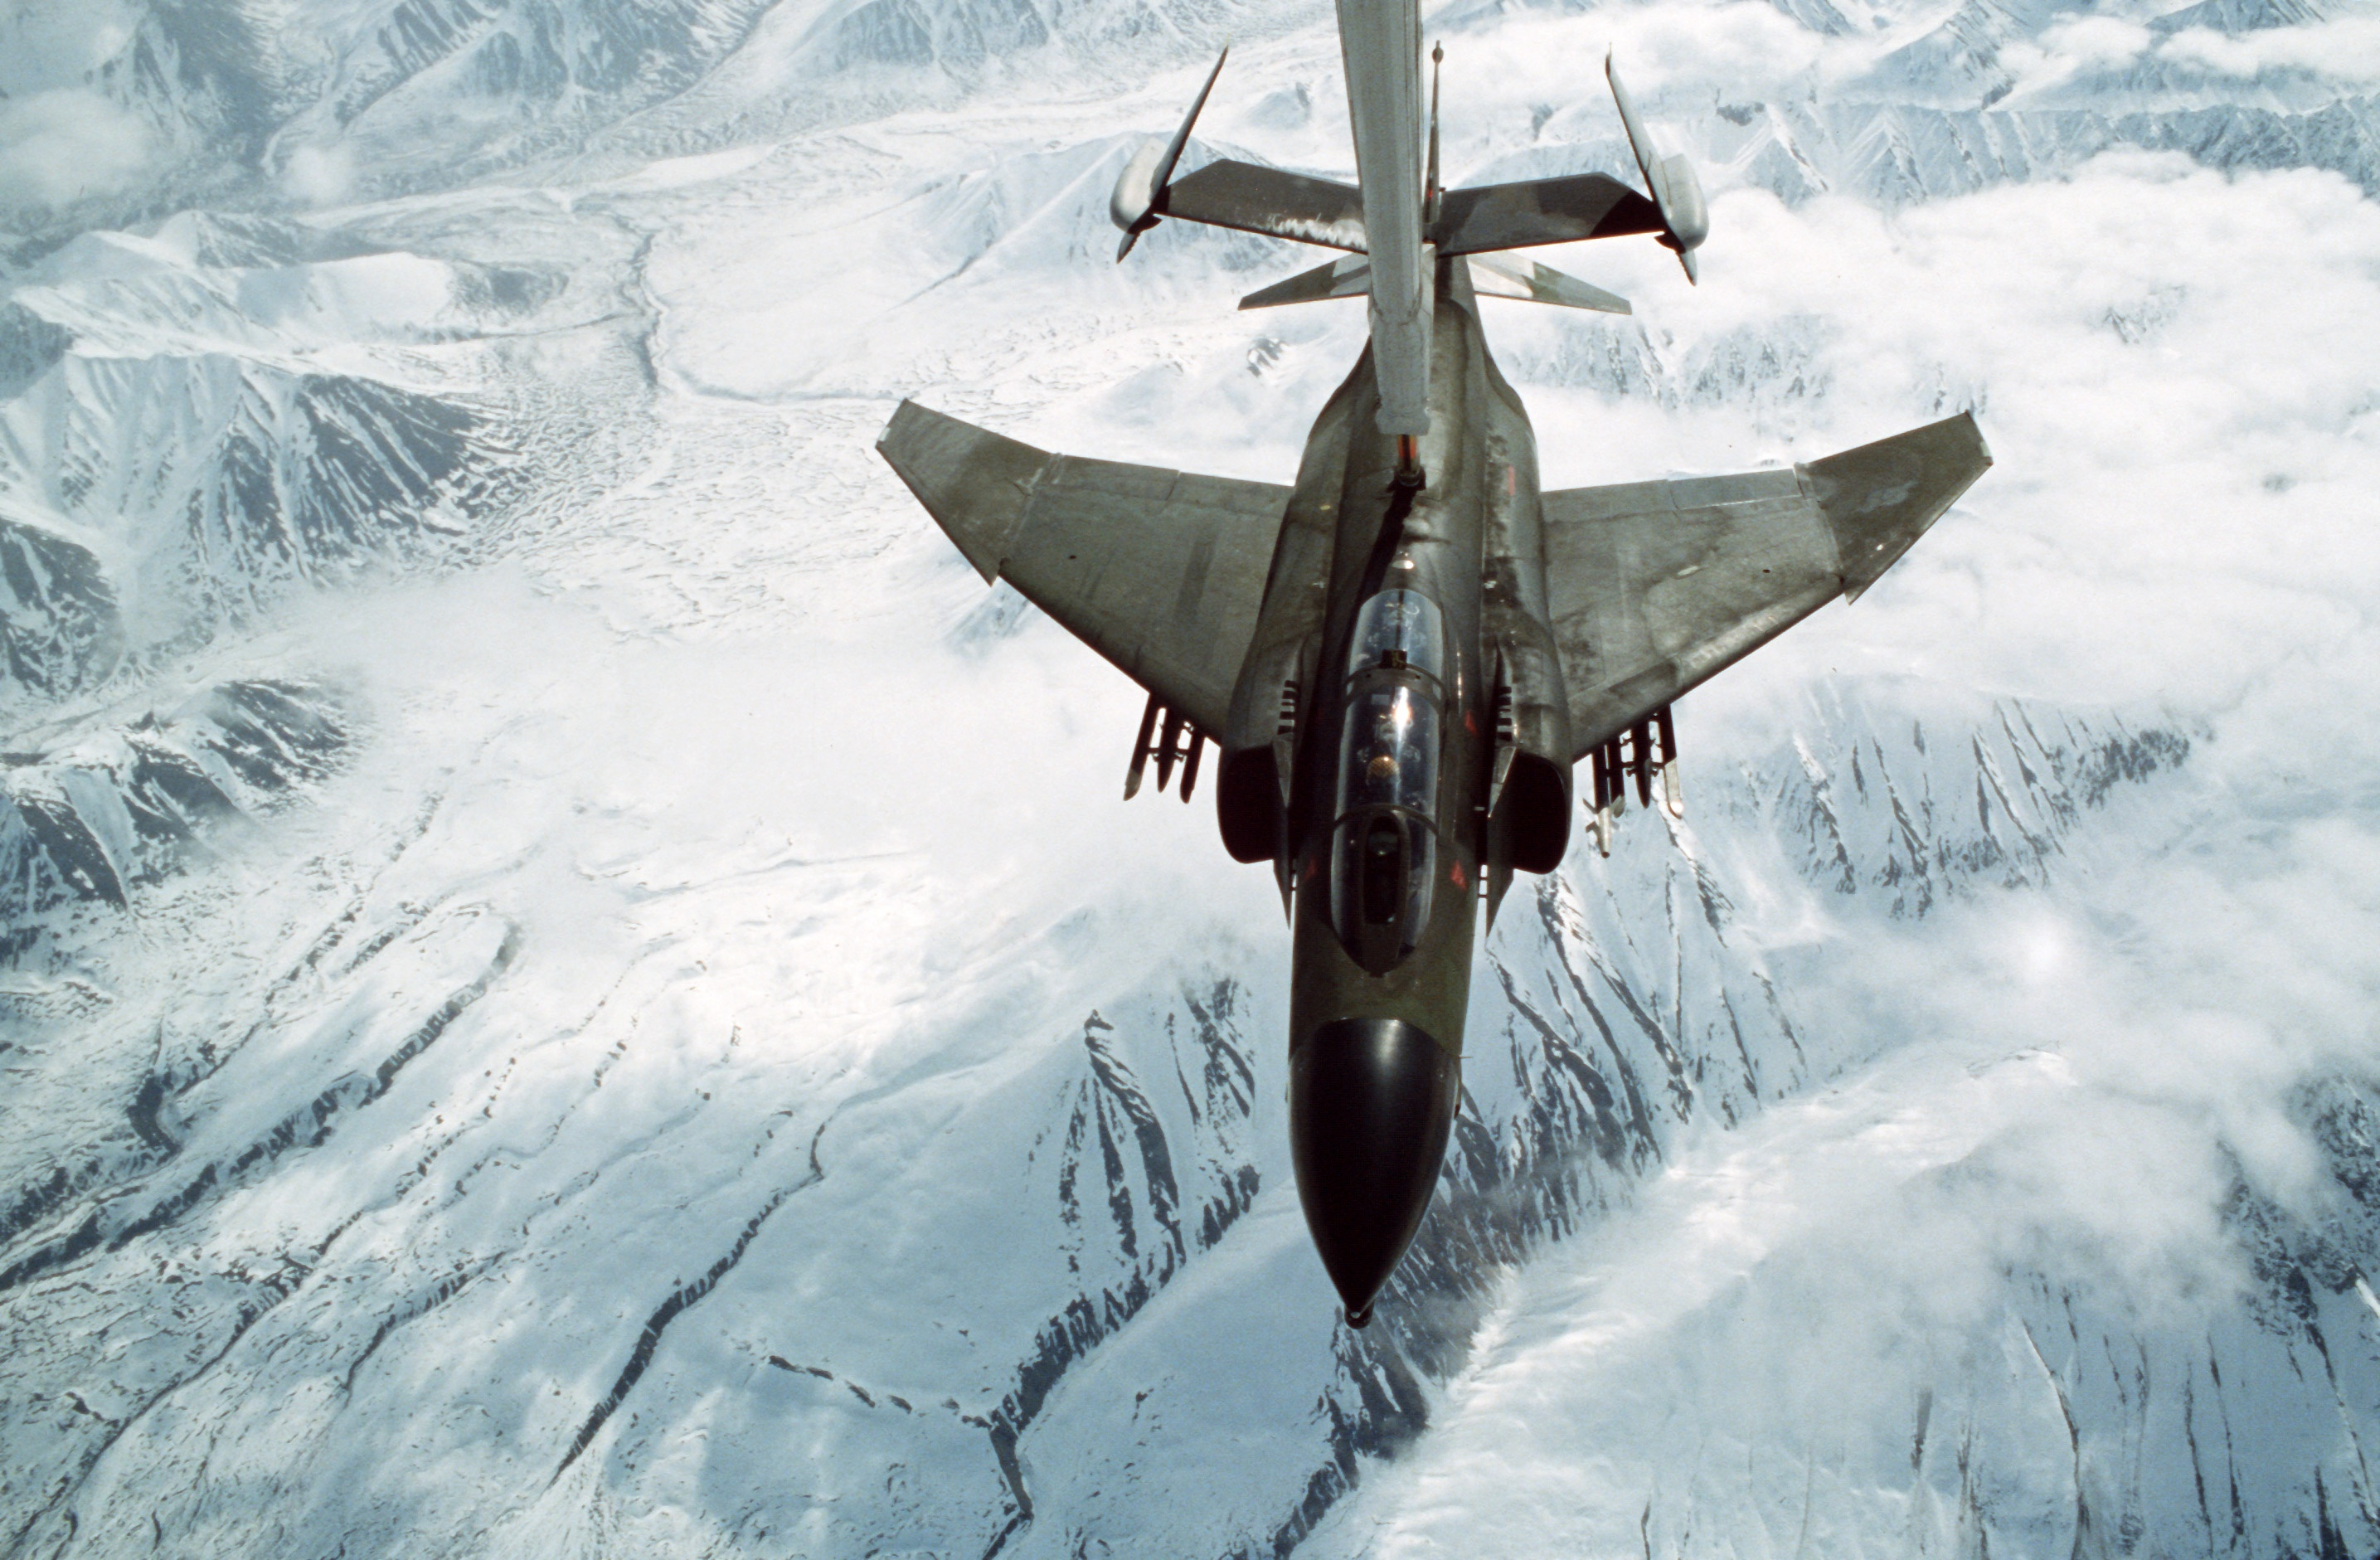F4: (876, 40, 1993, 1330)
